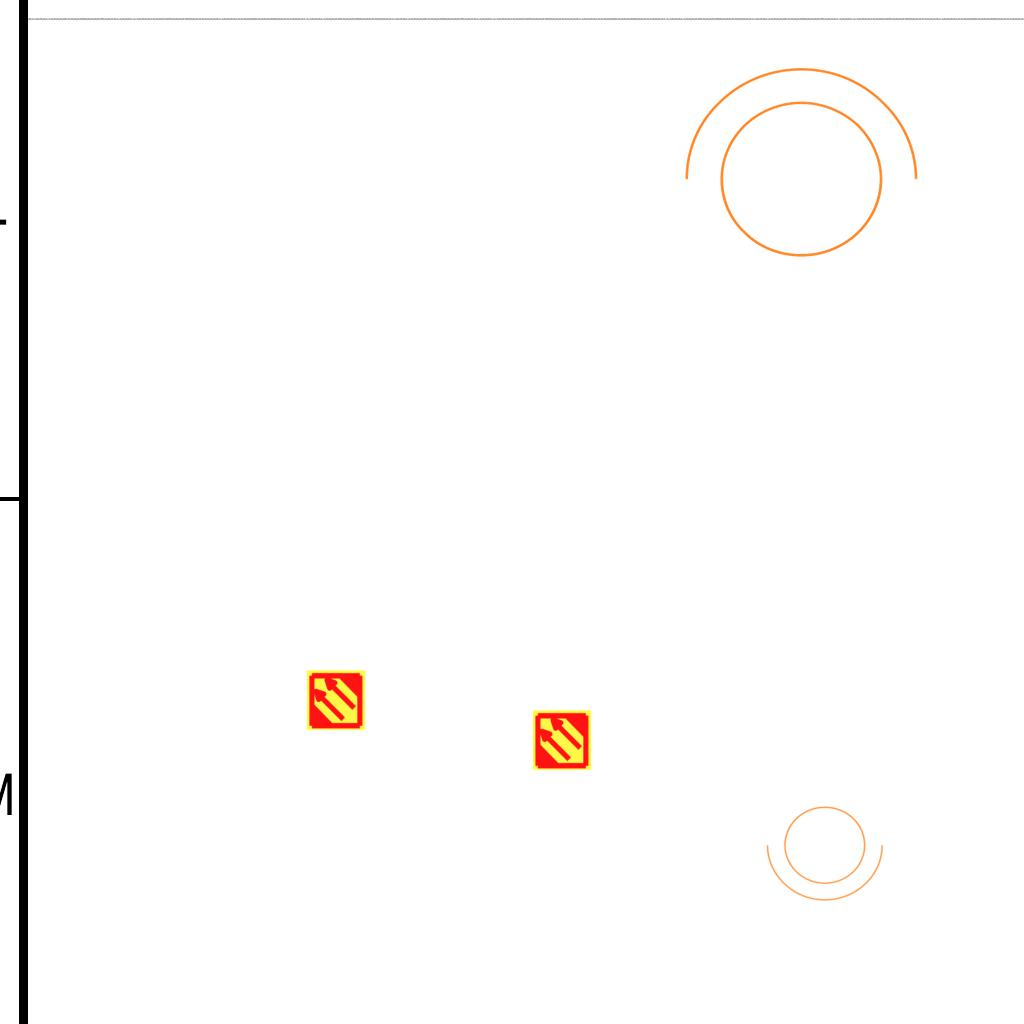ASR_Ansaugrauchmelder: (305, 669, 367, 731), (531, 709, 593, 771)
Scheinwerfer_fuer_Alarmbeleuchtung: (663, 57, 927, 282), (762, 794, 894, 906)
